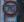Speed Limit -70-: (0, 0, 23, 21)
